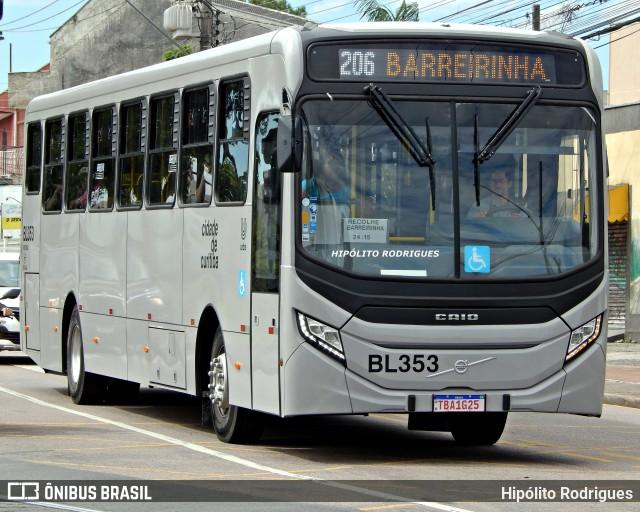BARREIRINHA: (378, 47, 552, 83)
